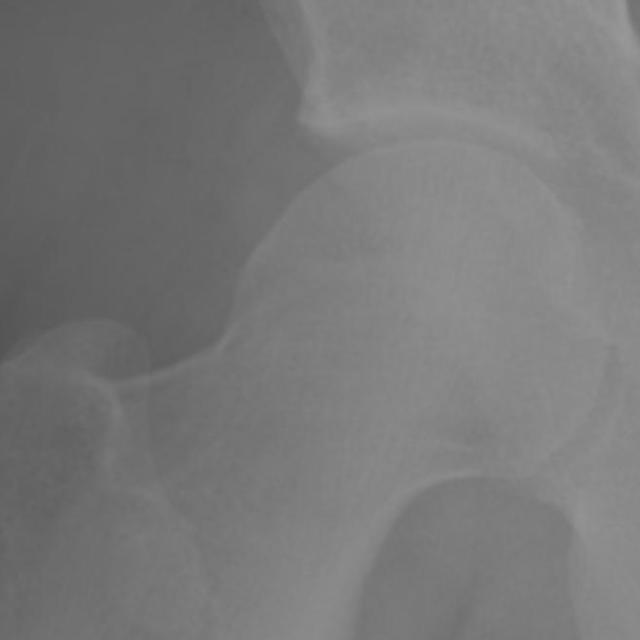Fitted_femural_head: (360, 141, 432, 360)
